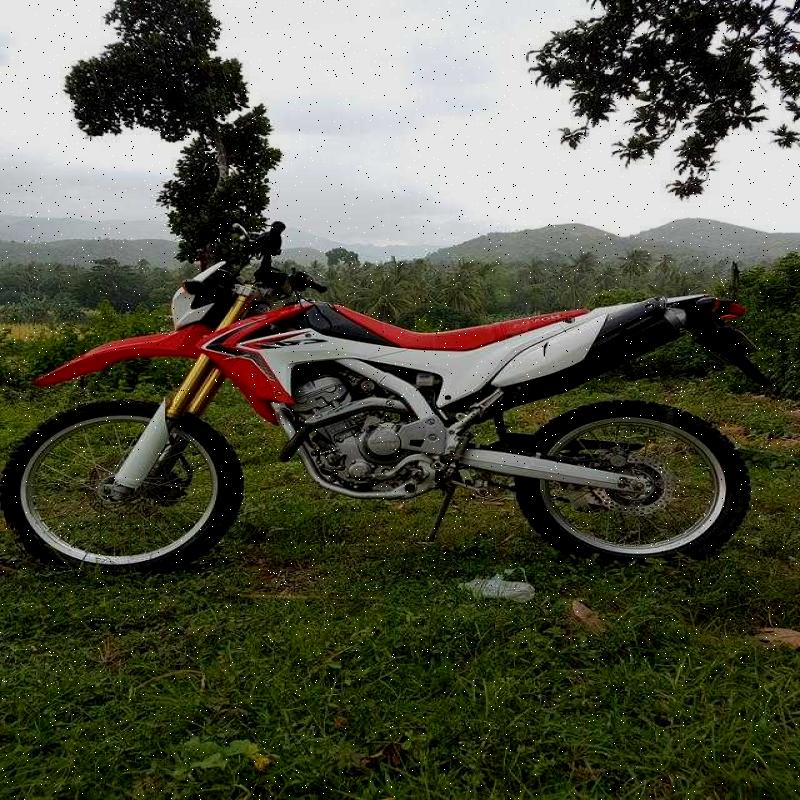bike: (11, 222, 800, 586)
